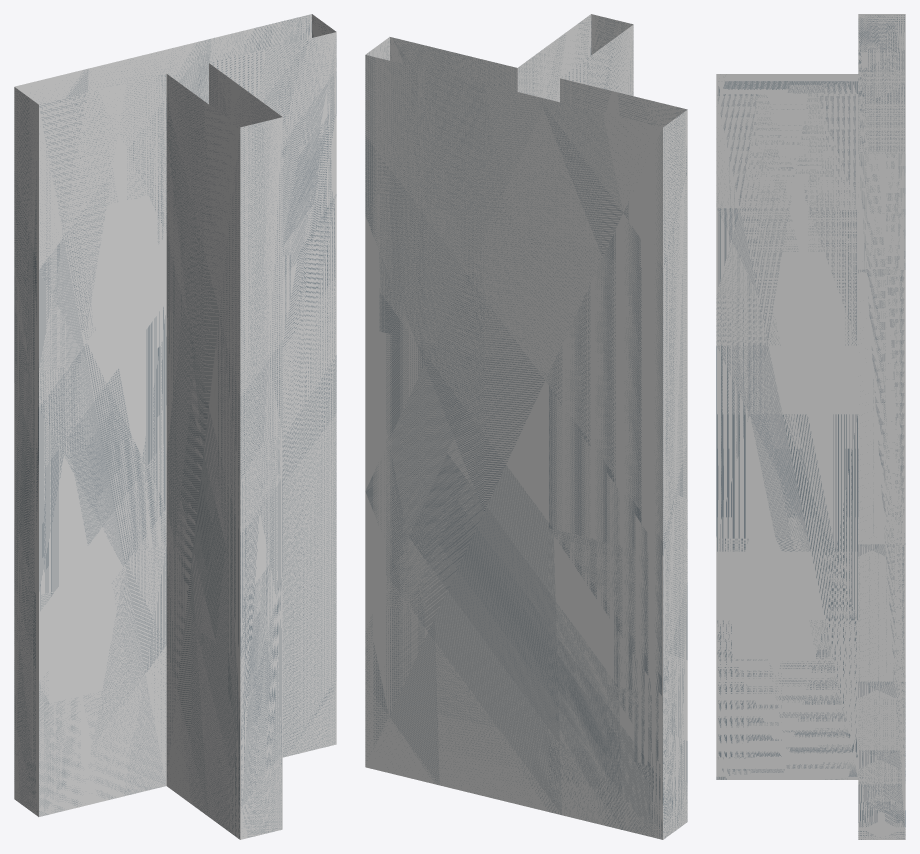
Rendered from Corner_ds_double_075x075x025x4.dae.
3 renders of one model, left to right at view 1: azimuth 30°, elevation 25°; view 2: azimuth 150°, elevation 25°; view 3: azimuth 270°, elevation 25°, orthographic. The views are drawn at different scales.
Visible parts, largest first — view 1: group_0; view 2: group_0; view 3: group_0.
Part boxes in pixels (x1,y1,x2,y2): group_0: (14,14,336,839); group_0: (365,14,687,839); group_0: (716,14,905,839).
Bounding box in the file's own units: 68.9 × 39.37 × 157.
